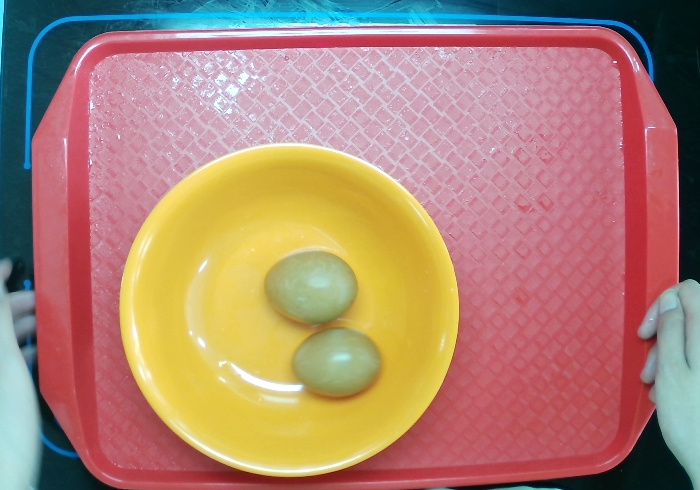YKMZ-Ju_Se_Tang_Wan: (110, 133, 474, 486)
